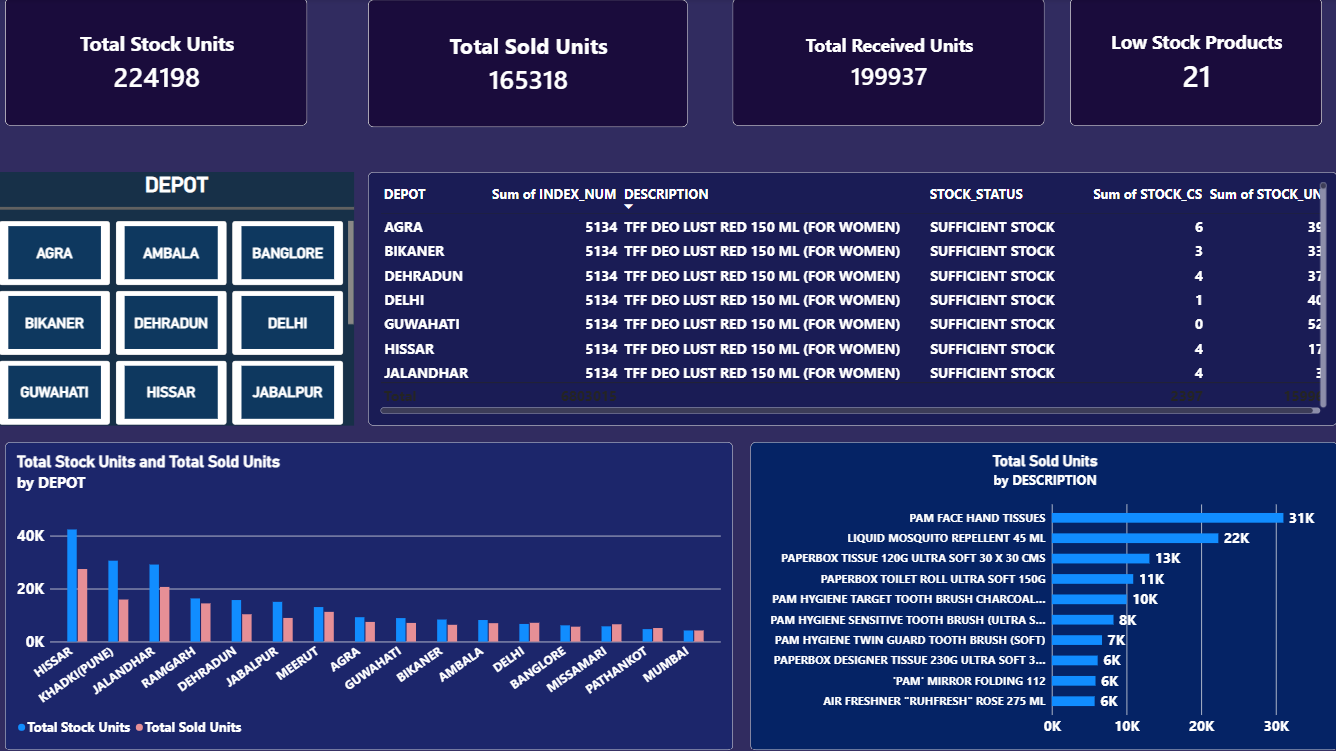

This screenshot's page, from the dashboard's own definition file:
{"tool":"powerbi","page":{"name":"Depot Analysis","canvas":[1920,1080],"ordinal":0},"visuals":[{"type":"cardVisual","fields":{"Data":["Depot_Stock_Summary.Total Stock Units"]},"box":[9.1,0,433.8,184],"z":0},{"type":"cardVisual","fields":{"Data":["Depot_Stock_Summary.Total Sold Units"]},"box":[529.2,2.3,458.8,184],"z":1},{"type":"cardVisual","fields":{"Data":["Depot_Stock_Summary.Total Received Units"]},"box":[1051.6,0,447.4,184],"z":2},{"type":"cardVisual","fields":{"Data":["Depot_Stock_Summary.Low Stock Products"]},"box":[1533.1,0,361.1,184],"z":3},{"type":"clusteredColumnChart","fields":{"Category":["Depot_Stock_Summary.DEPOT"],"Y":["Depot_Stock_Summary.Total Stock Units","Depot_Stock_Summary.Total Sold Units"]},"box":[9.1,636,1042.5,442.9],"z":4},{"type":"clusteredBarChart","fields":{"Category":["Depot_Stock_Summary.DESCRIPTION"],"Y":["Depot_Stock_Summary.Total Sold Units"]},"box":[1076.6,636,842.7,442.9],"z":6},{"type":"tableEx","fields":{"Values":["Depot_Stock_Summary.DEPOT","Sum(Depot_Stock_Summary.INDEX_NUM)","Depot_Stock_Summary.DESCRIPTION","Depot_Stock_Summary.STOCK_STATUS","Sum(Depot_Stock_Summary.STOCK_CS)","Sum(Depot_Stock_Summary.STOCK_UN)"]},"box":[529.2,249.8,1390,363.4],"z":7},{"type":"advancedSlicerVisual","fields":{"Values":["Depot_Stock_Summary.DEPOT"]},"box":[0,249.8,508.8,363.4],"z":8}]}

Visuals, with their boxes in screenshot pixels (x1, y1, x2, y2), scaled from the page's 1920x1080 canvas onto the 1336x751 screenshot:
cardVisual - Depot_Stock_Summary.Total Stock Units: (6, 0, 308, 128)
cardVisual - Depot_Stock_Summary.Total Sold Units: (368, 2, 687, 130)
cardVisual - Depot_Stock_Summary.Total Received Units: (732, 0, 1043, 128)
cardVisual - Depot_Stock_Summary.Low Stock Products: (1067, 0, 1318, 128)
clusteredColumnChart - Depot_Stock_Summary.DEPOT x Depot_Stock_Summary.Total Stock Units: (6, 442, 732, 750)
clusteredBarChart - Depot_Stock_Summary.DESCRIPTION x Depot_Stock_Summary.Total Sold Units: (749, 442, 1335, 750)
tableEx - Depot_Stock_Summary.DEPOT x Sum(Depot_Stock_Summary.INDEX_NUM): (368, 174, 1335, 426)
advancedSlicerVisual - Depot_Stock_Summary.DEPOT: (0, 174, 354, 426)
